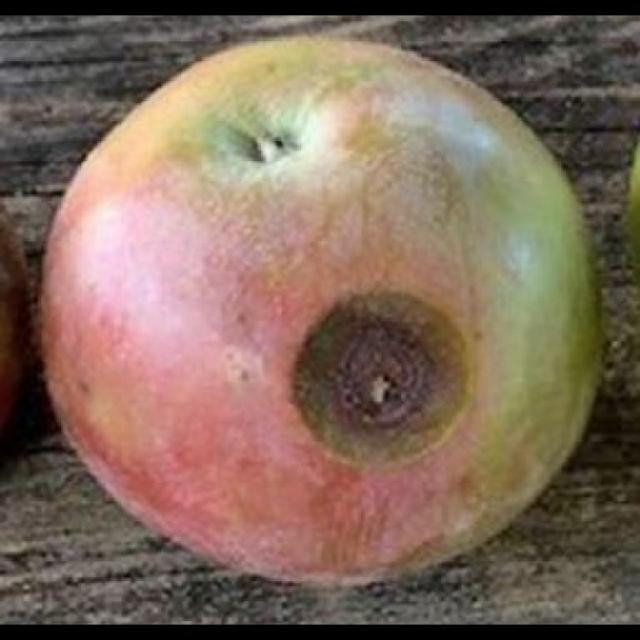Rotten Apple: (38, 32, 604, 591)
